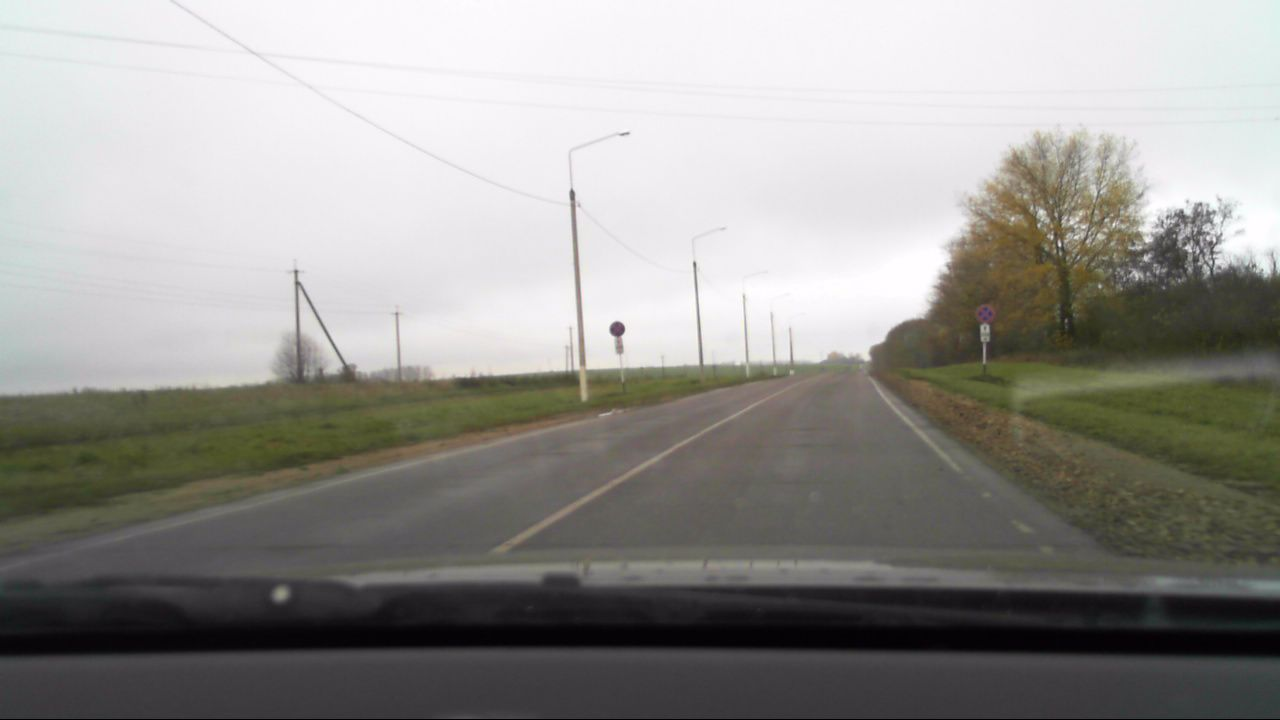No Parking: (609, 320, 627, 337)
